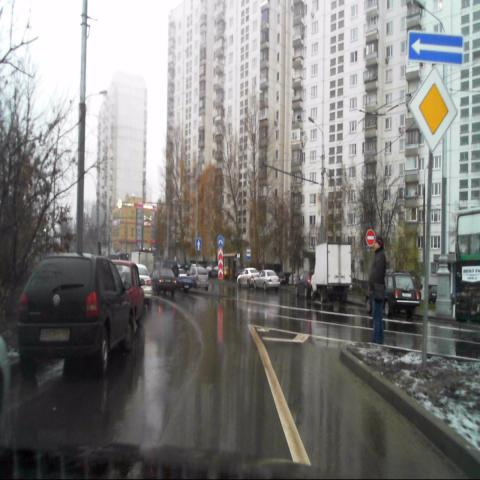5_7_2: (408, 30, 463, 64)
